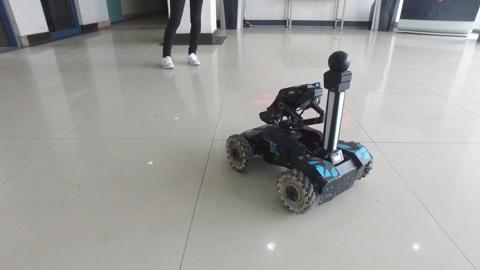chariot: (224, 49, 374, 214)
